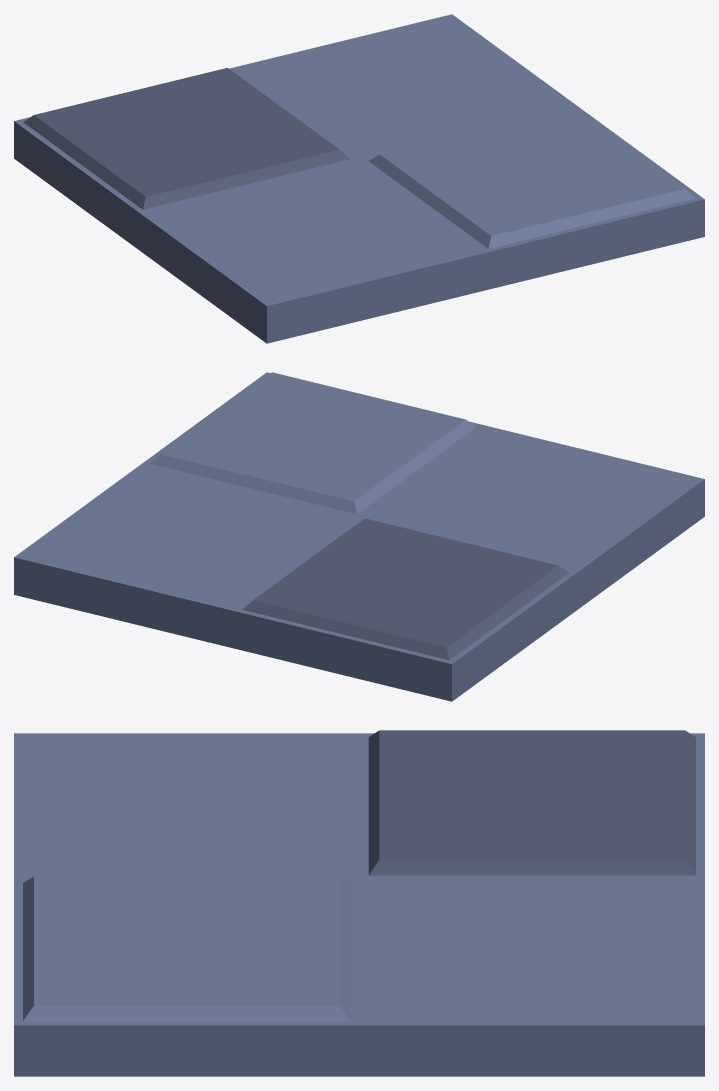
File: floor.fbx
The picture shows the model from 3 angles, top to bottom: view 1: azimuth 30°, elevation 25°; view 2: azimuth 150°, elevation 25°; view 3: azimuth 270°, elevation 25°; orthographic projection. The views are drawn at different scales.
Parts seen in each view (by area): view 1: floor.006; view 2: floor.006; view 3: floor.006.
Boxes of the visible parts, left/top/right/bottom form: floor.006: left=14, top=14, right=704, bottom=343; floor.006: left=14, top=372, right=704, bottom=701; floor.006: left=14, top=730, right=704, bottom=1076.
Bounding box in the file's own units: 100 × 100 × 10.
